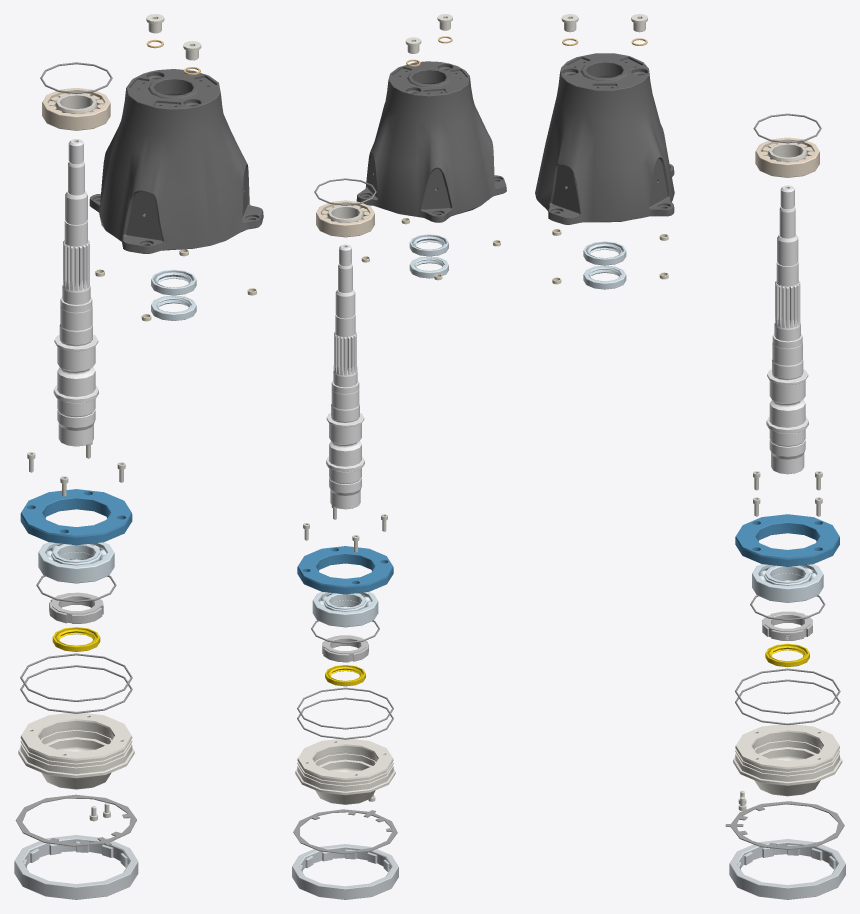
File: Thrust_Hub_Final_Assembly.glb
The picture shows the model from 3 angles, left to right: view 1: azimuth 30°, elevation 25°; view 2: azimuth 150°, elevation 25°; view 3: azimuth 270°, elevation 25°; orthographic projection. The views are drawn at different scales.
Visible parts, largest first — view 1: Thrust Housing, Prop Shaft, FWD Bearing House, Reverse Thrust Support Ring, FWD Retainer Ring, Angular Contact Bearing, 40mm x 80mm x 18mm, Cylindrical Roller Bearing, 35mm x 72mm x 17mm, Removable In, Radial Seal, 34mm X 48mm X 8mm, HMSA10 V (×2), Tab Washer, Lock Nut, M40x1.5 x 58mm x 11mm, KMK, O-Ring 110 mm X 2 mm Buna-N 70 (×2), Radial Seal, 37mm X 50mm X 6mm, HMSA10 V (+1 smaller); view 2: Thrust Housing, Prop Shaft, FWD Bearing House, Reverse Thrust Support Ring, FWD Retainer Ring, Angular Contact Bearing, 40mm x 80mm x 18mm, Cylindrical Roller Bearing, 35mm x 72mm x 17mm, Removable In, Radial Seal, 34mm X 48mm X 8mm, HMSA10 V (×2), Tab Washer, O-Ring 110 mm X 2 mm Buna-N 70 (×2), Lock Nut, M40x1.5 x 58mm x 11mm, KMK, Radial Seal, 37mm X 50mm X 6mm, HMSA10 V (+1 smaller); view 3: Thrust Housing, Prop Shaft, FWD Bearing House, Reverse Thrust Support Ring, FWD Retainer Ring, Angular Contact Bearing, 40mm x 80mm x 18mm, Cylindrical Roller Bearing, 35mm x 72mm x 17mm, Removable In, Radial Seal, 34mm X 48mm X 8mm, HMSA10 V (×2), Tab Washer, Lock Nut, M40x1.5 x 58mm x 11mm, KMK, Radial Seal, 37mm X 50mm X 6mm, HMSA10 V, SPACECLAIM - Inner Race - Cylindrical Roller Bearing, 35mm x.
Boxes of the visible parts, <box> form: Thrust Housing: <box>89,69,263,253</box>; Prop Shaft: <box>53,139,98,446</box>; FWD Bearing House: <box>18,713,134,789</box>; Reverse Thrust Support Ring: <box>20,489,132,545</box>; FWD Retainer Ring: <box>14,835,138,899</box>; Angular Contact Bearing, 40mm x 80mm x 18mm: <box>38,542,114,583</box>; Cylindrical Roller Bearing, 35mm x 72mm x 17mm, Removable In: <box>42,88,110,130</box>; Radial Seal, 34mm X 48mm X 8mm, HMSA10 V (×2): <box>151,269,196,320</box>; Tab Washer: <box>15,794,136,846</box>; Lock Nut, M40x1.5 x 58mm x 11mm, KMK: <box>49,592,103,623</box>; O-Ring 110 mm X 2 mm Buna-N 70 (×2): <box>20,653,132,713</box>; Radial Seal, 37mm X 50mm X 6mm, HMSA10 V: <box>52,627,100,651</box>; Thrust Housing: <box>356,61,506,222</box>; Prop Shaft: <box>326,244,364,509</box>; FWD Bearing House: <box>295,739,395,804</box>; Reverse Thrust Support Ring: <box>297,546,393,594</box>; FWD Retainer Ring: <box>292,844,398,899</box>; Angular Contact Bearing, 40mm x 80mm x 18mm: <box>312,592,378,627</box>; Cylindrical Roller Bearing, 35mm x 72mm x 17mm, Removable In: <box>316,200,374,237</box>; Radial Seal, 34mm X 48mm X 8mm, HMSA10 V (×2): <box>409,234,448,278</box>; Tab Washer: <box>293,809,397,853</box>; O-Ring 110 mm X 2 mm Buna-N 70 (×2): <box>297,687,393,739</box>; Lock Nut, M40x1.5 x 58mm x 11mm, KMK: <box>322,635,368,662</box>; Radial Seal, 37mm X 50mm X 6mm, HMSA10 V: <box>325,665,365,686</box>; Thrust Housing: <box>535,53,674,224</box>; Prop Shaft: <box>766,185,808,474</box>; FWD Bearing House: <box>733,724,842,796</box>; Reverse Thrust Support Ring: <box>735,514,839,566</box>; FWD Retainer Ring: <box>729,839,845,899</box>; Angular Contact Bearing, 40mm x 80mm x 18mm: <box>752,564,823,602</box>; Cylindrical Roller Bearing, 35mm x 72mm x 17mm, Removable In: <box>755,137,819,177</box>; Radial Seal, 34mm X 48mm X 8mm, HMSA10 V (×2): <box>583,241,626,289</box>; Tab Washer: <box>725,801,844,849</box>; Lock Nut, M40x1.5 x 58mm x 11mm, KMK: <box>762,611,812,640</box>; Radial Seal, 37mm X 50mm X 6mm, HMSA10 V: <box>765,643,809,667</box>; SPACECLAIM - Inner Race - Cylindrical Roller Bearing, 35mm x: <box>768,143,807,162</box>.
Bounding box in the file's own units: 0.1677 × 1.06 × 0.3469.
